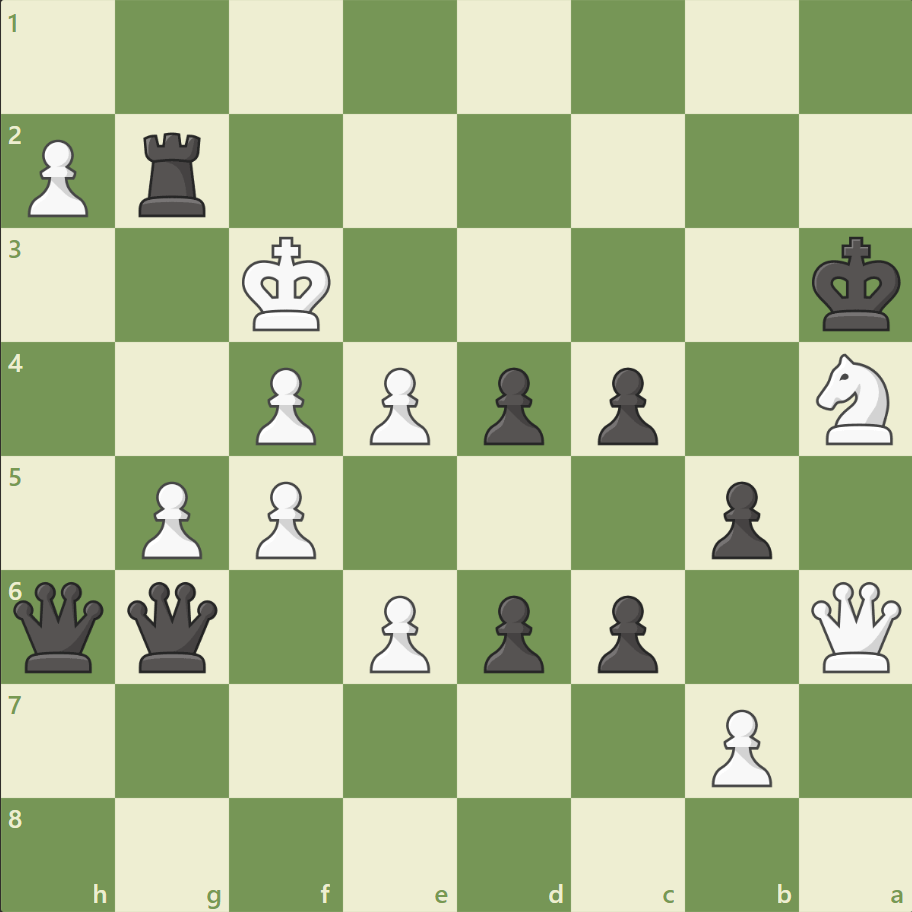K: (238, 231, 338, 339)
N: (806, 348, 903, 450)
P: (701, 700, 776, 791), (247, 473, 322, 564), (133, 473, 208, 564), (247, 359, 322, 450), (20, 132, 95, 223), (361, 586, 435, 677), (361, 359, 435, 450)
Q: (805, 576, 904, 676)
k: (806, 231, 906, 339)
p: (474, 586, 549, 677), (701, 473, 776, 564), (474, 359, 549, 450), (588, 586, 662, 677), (588, 359, 662, 450)
q: (124, 576, 223, 676), (10, 576, 109, 676)
r: (133, 125, 215, 222)
